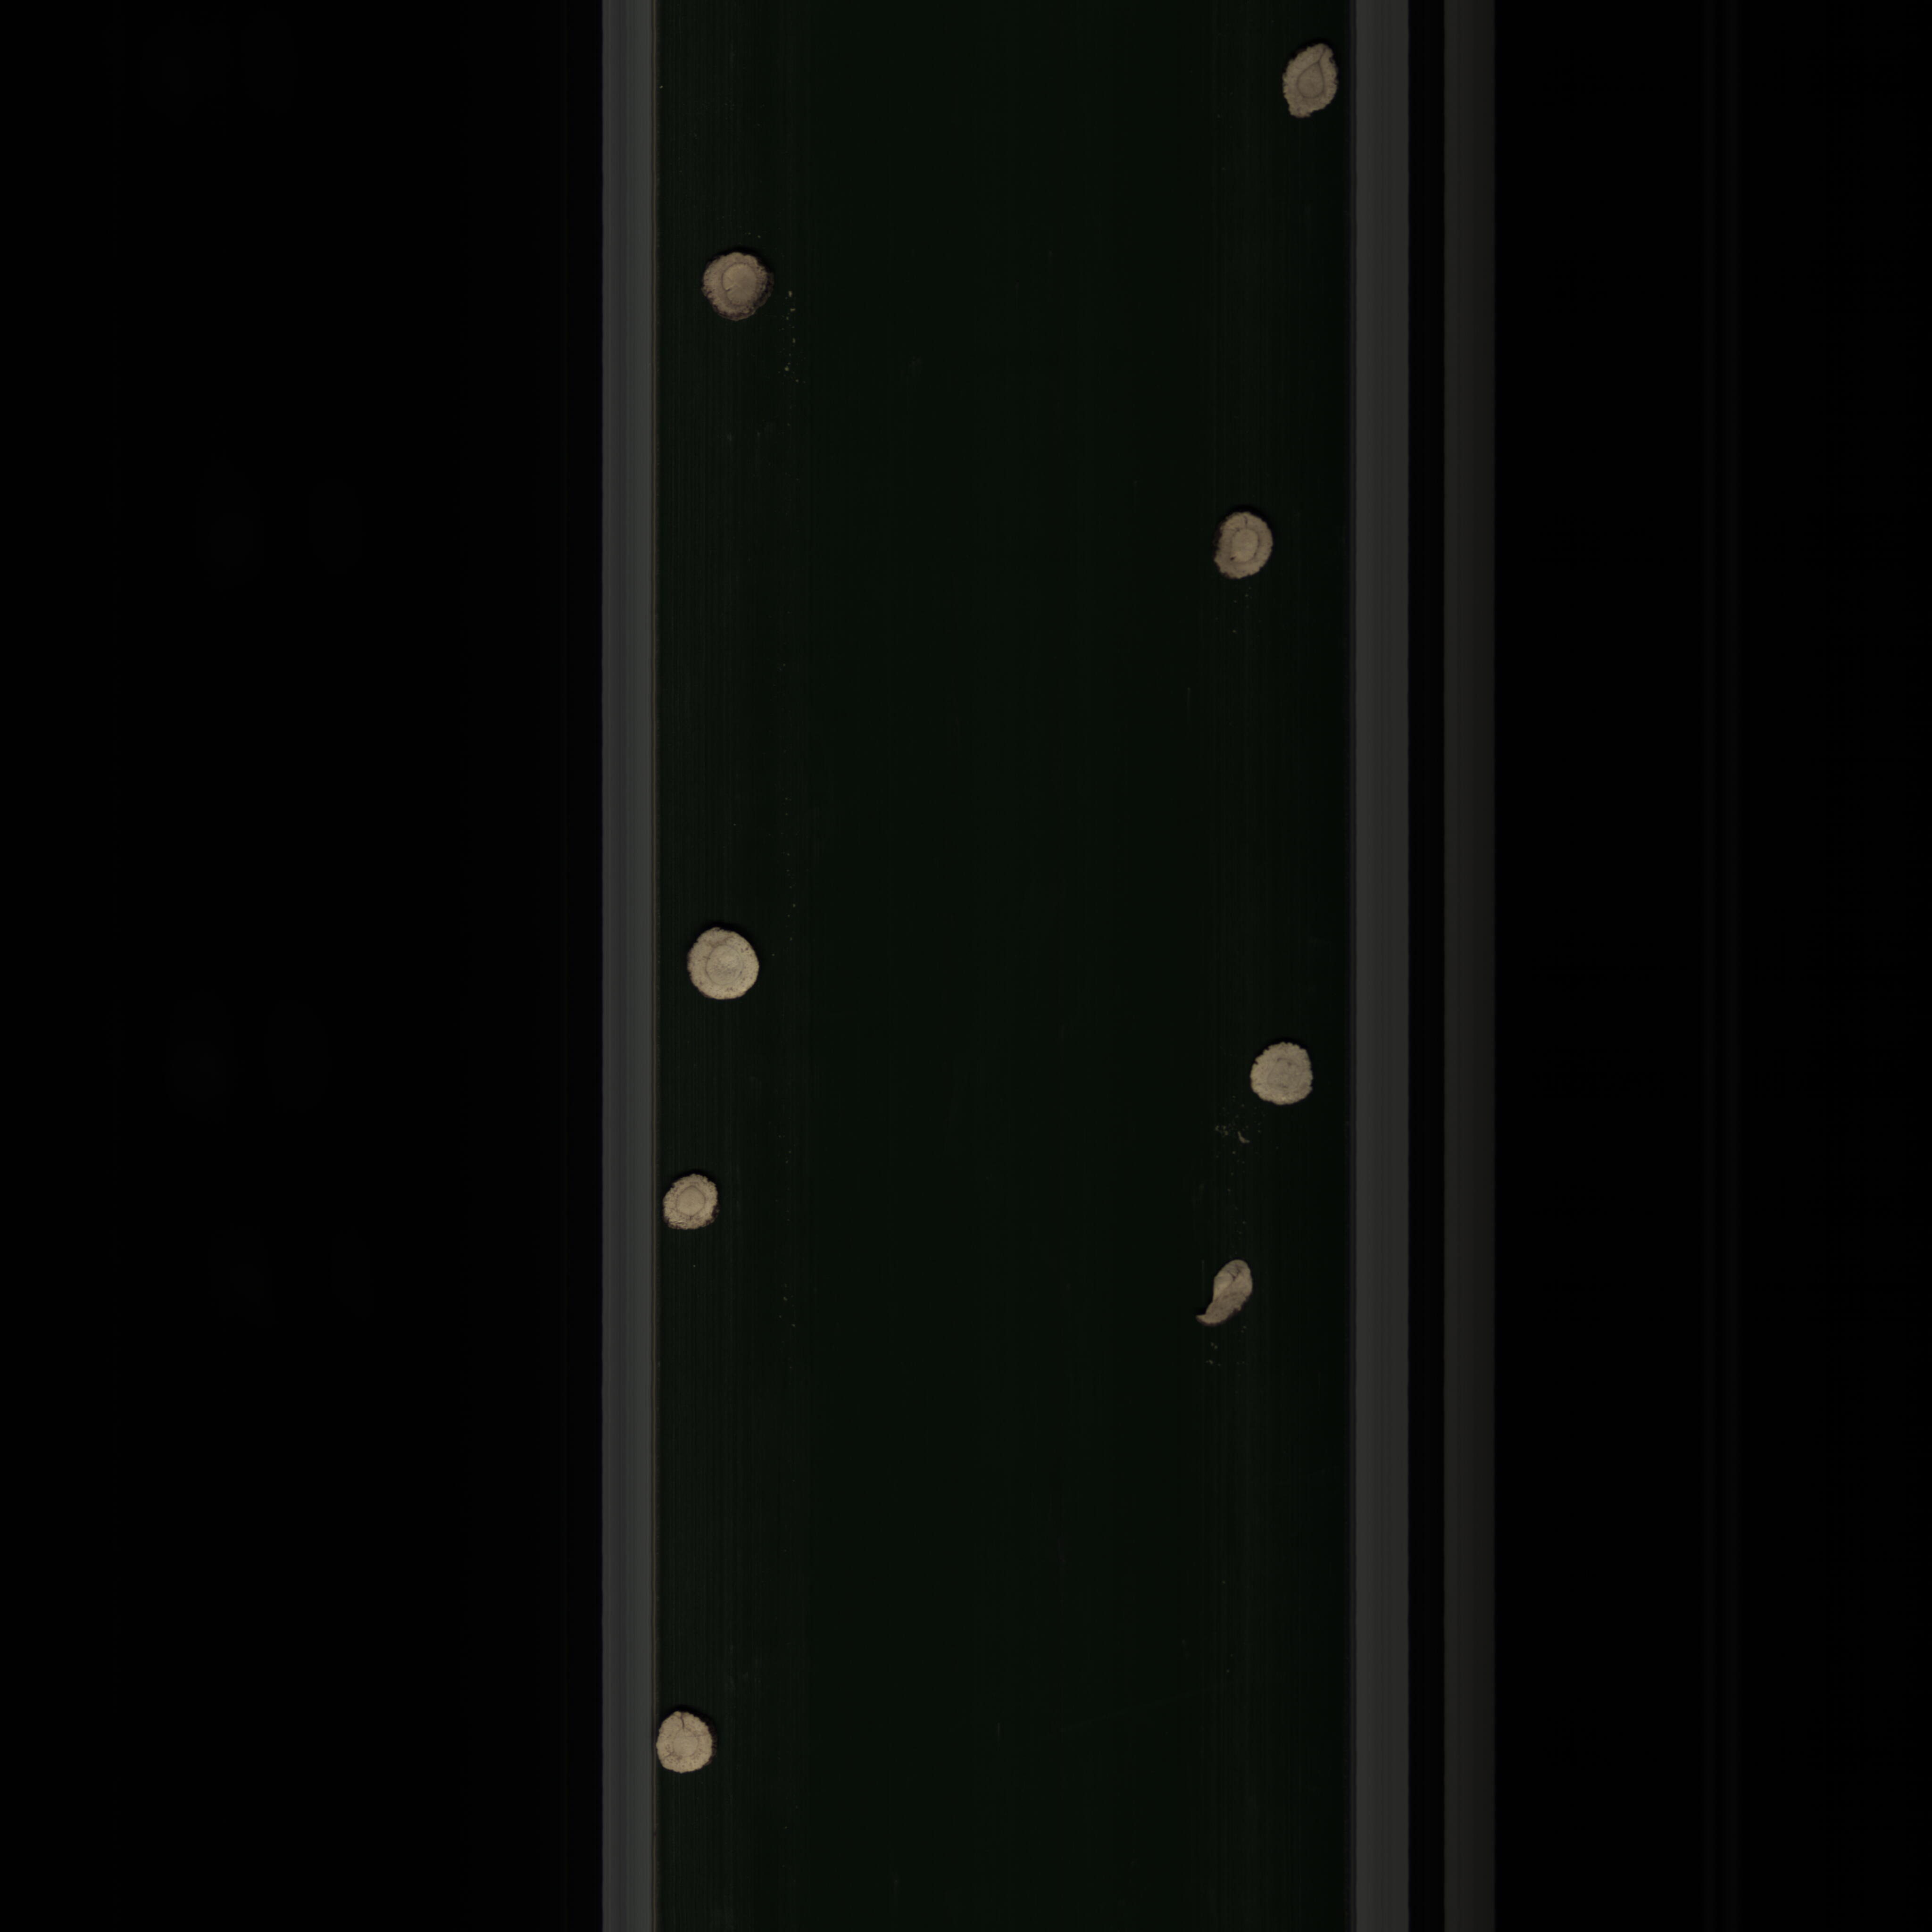debris: (1192, 1253, 1270, 1353)
moldy: (692, 232, 784, 338)
